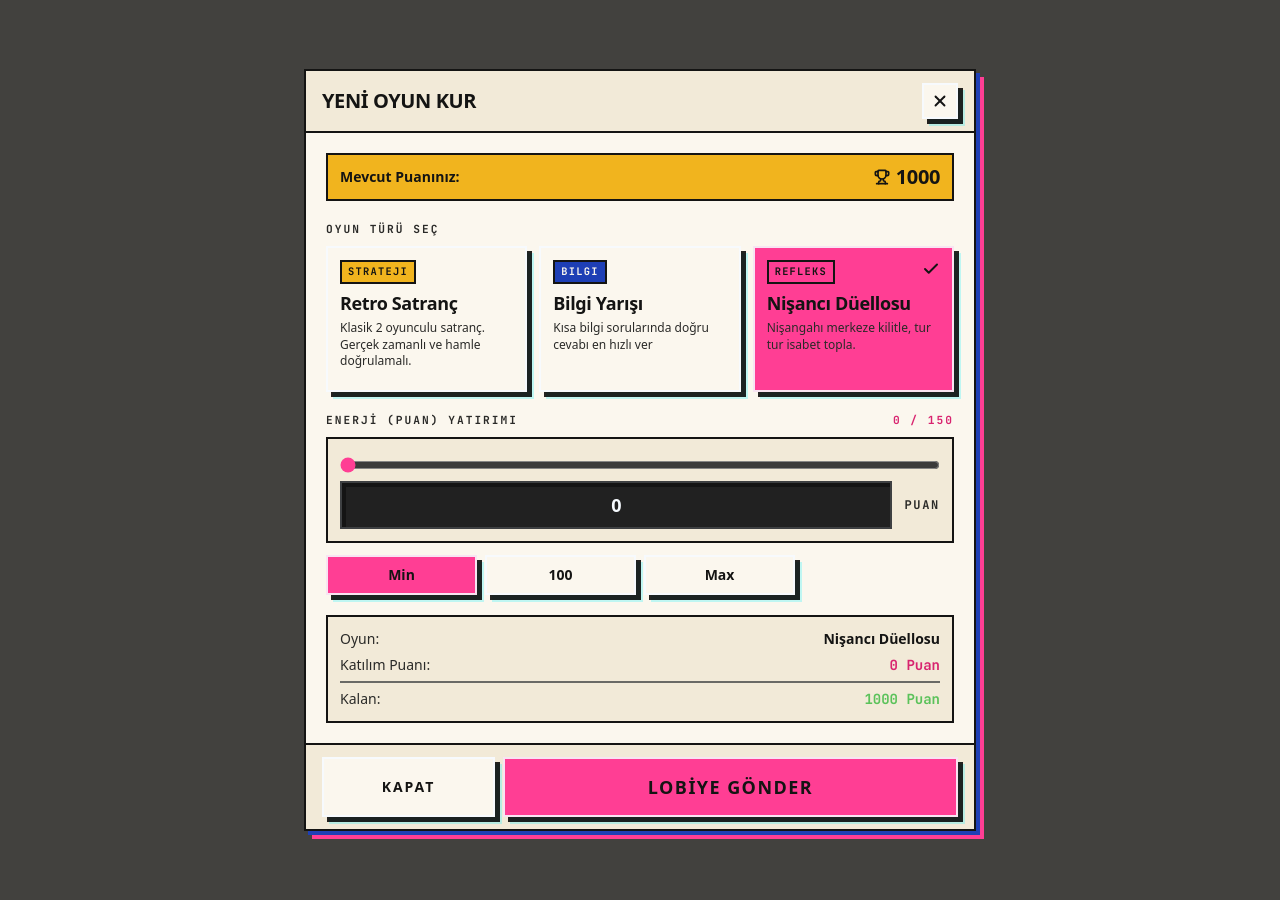
CreateGameModal › Summary Updates › updates summary when points change
This screenshot has width=1280, height=900.
Replace the text in the number field with test id "game-points-input" with "500" at (616, 505), box [340,481,892,529]
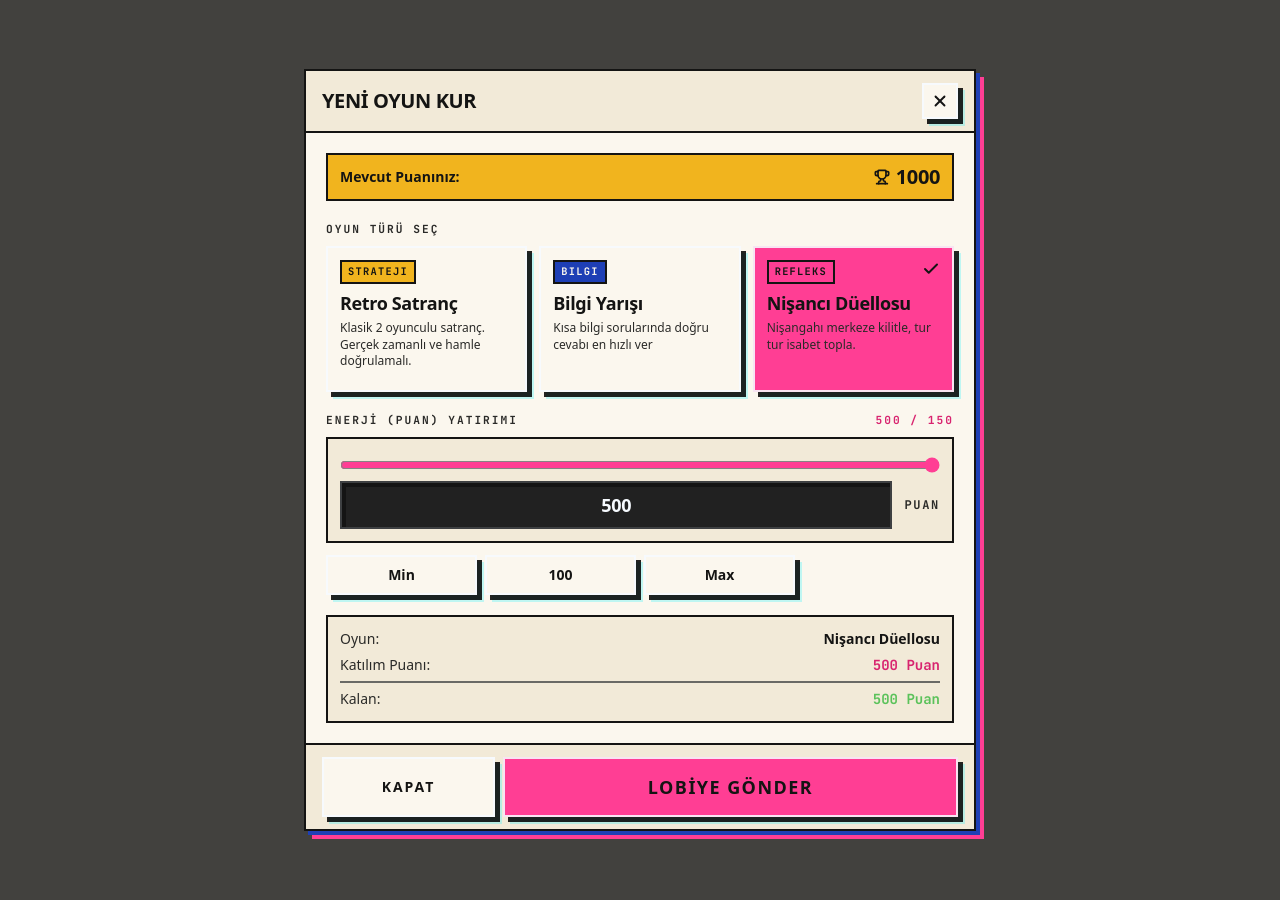
Check: the text "500 Puan" in the row of "Katılım Puanı:" is shown, box [873,656,940,674]
